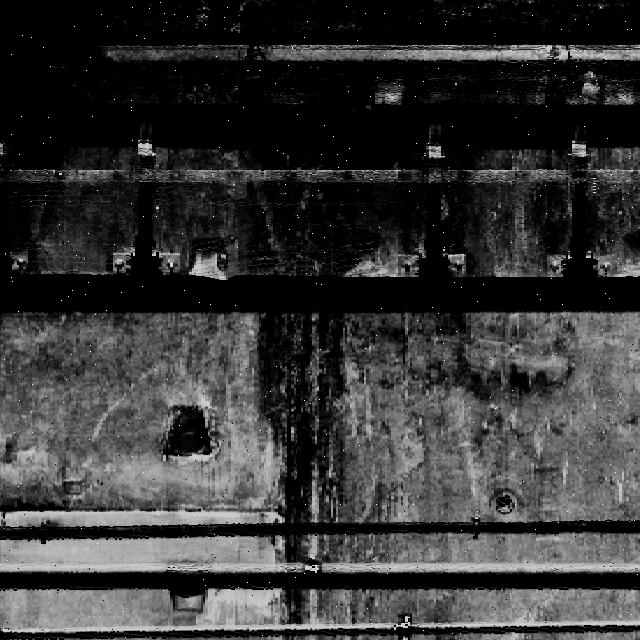leakage: (223, 153, 389, 639)
